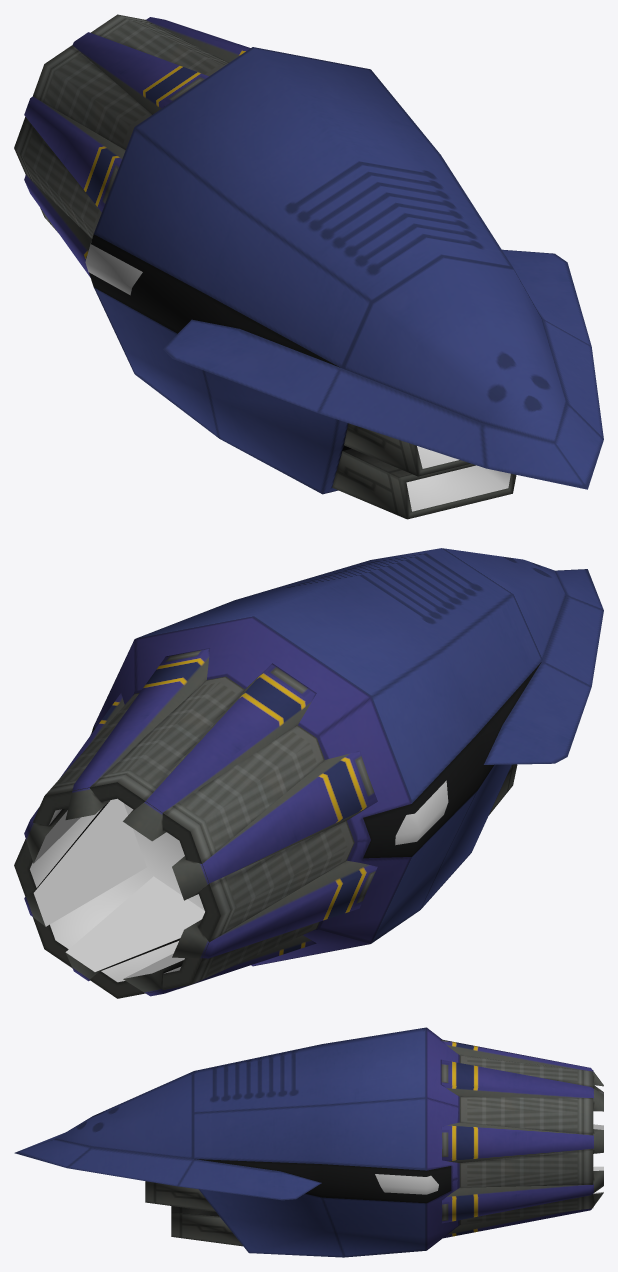
The model's file is ShipCuttleFish.fbx.
The picture shows the model from 3 angles, top to bottom: view 1: azimuth 30°, elevation 25°; view 2: azimuth 150°, elevation 25°; view 3: azimuth 270°, elevation 25°; orthographic projection. The views are drawn at different scales.
Visible parts, largest first — view 1: Empty_Mesh; view 2: Empty_Mesh; view 3: Empty_Mesh.
Boxes of the visible parts, box(x1,y1,x2,y2) form: Empty_Mesh: box(14, 14, 603, 519); Empty_Mesh: box(14, 548, 603, 998); Empty_Mesh: box(14, 1027, 603, 1257).
Bounding box in the file's own units: 0.5105 × 0.4316 × 1.07.
